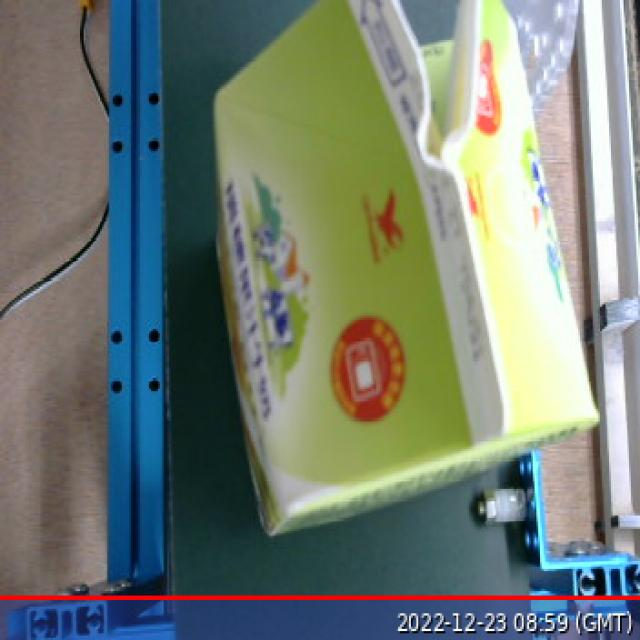non_white_jug: (203, 0, 604, 519)
